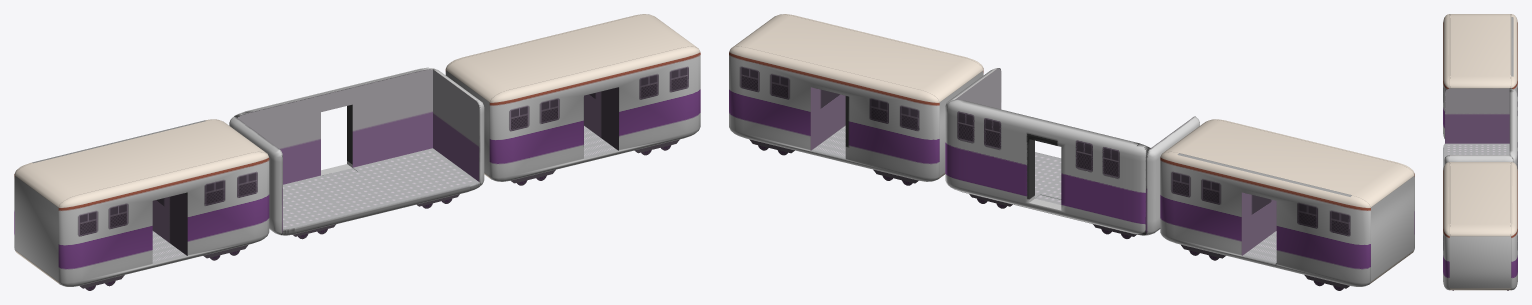
Rendered from Train .fbx.
The picture shows the model from 3 angles, left to right: view 1: azimuth 30°, elevation 25°; view 2: azimuth 150°, elevation 25°; view 3: azimuth 270°, elevation 25°; orthographic projection. The views are drawn at different scales.
Visible parts, largest first — view 1: Cube.010, Cube.005, Cube.003, Cube.001, Cube.002, Cube.004; view 2: Cube.010, Cube.005, Cube.003, Cube.004, Cube.001, Cube.002; view 3: Cube.005, Cube.010, Cube.004, Cube.001, Cube.003, Cube.002.
Boxes of the visible parts, x1,y1,x2,y2 form: Cube.010: (14, 119, 269, 290); Cube.005: (445, 14, 700, 185); Cube.003: (234, 67, 433, 184); Cube.001: (282, 148, 480, 235); Cube.002: (433, 68, 484, 185); Cube.004: (229, 116, 282, 235); Cube.010: (1160, 119, 1414, 290); Cube.005: (729, 14, 983, 185); Cube.003: (945, 99, 1150, 234); Cube.004: (1145, 116, 1199, 235); Cube.001: (961, 152, 1146, 235); Cube.002: (945, 68, 1001, 109); Cube.005: (1443, 162, 1517, 290); Cube.010: (1443, 14, 1517, 138); Cube.004: (1445, 88, 1509, 143); Cube.001: (1443, 143, 1509, 169); Cube.003: (1509, 88, 1517, 169); Cube.002: (1444, 155, 1513, 164).
Bounding box in the file's own units: 6144 × 923 × 881.
1 material, 1 textured.
